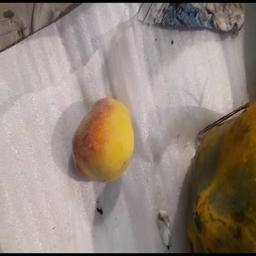Peach Fresh: (60, 86, 148, 188)
